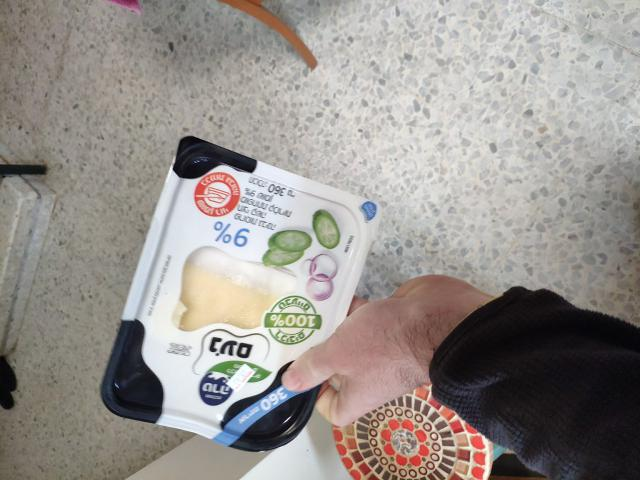cheese: (96, 134, 371, 453)
